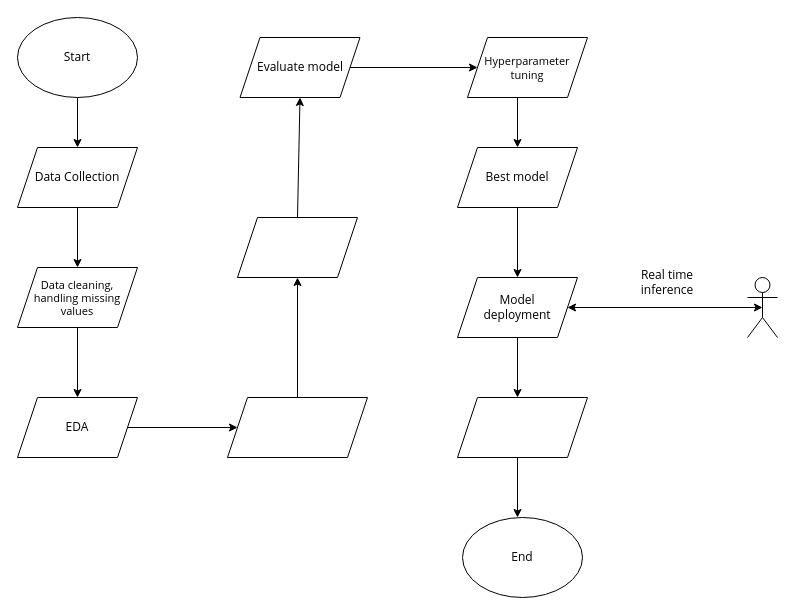
This 795x615 diagram has some shape labels left out. Here are the shapes that lost their labels. From the top down, the centre of each, then its label:
At point 297,247: "Model training".
At point 762,307: "Actor".
At point 297,427: "Feature Engineering".
At point 522,427: "Predictions".
